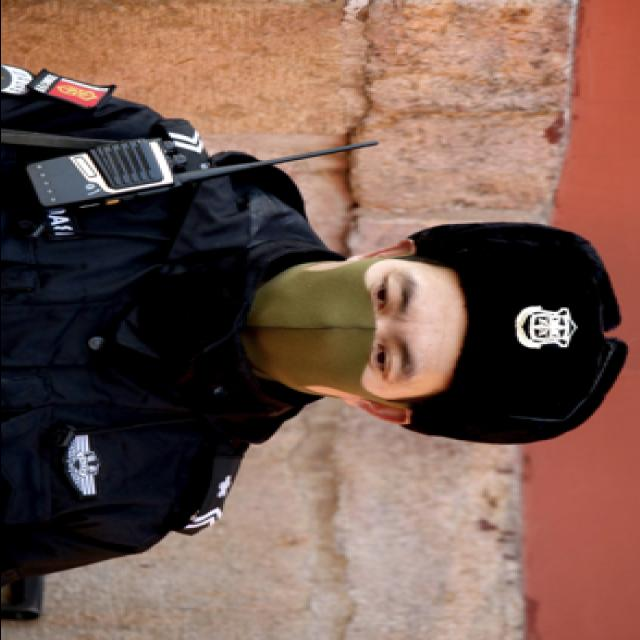with_mask: (246, 256, 424, 398)
